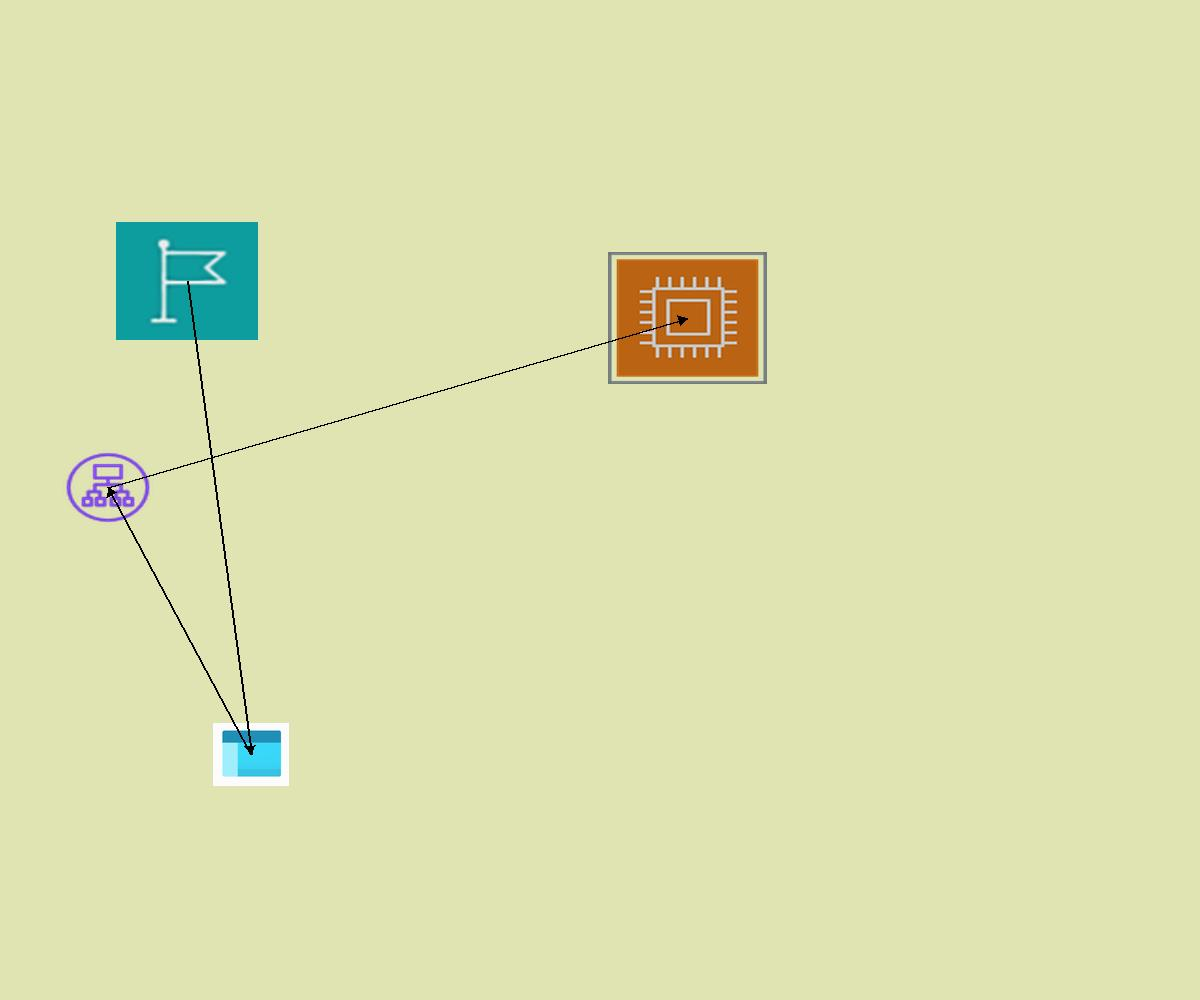AWS-Category_Compute: (608, 252, 767, 384)
AWS-Region: (116, 222, 258, 340)
AWS-Res_Elastic-Load-Balancing_Application-Load-Balancer: (63, 450, 153, 525)
Azure_management-portal: (213, 723, 289, 786)
